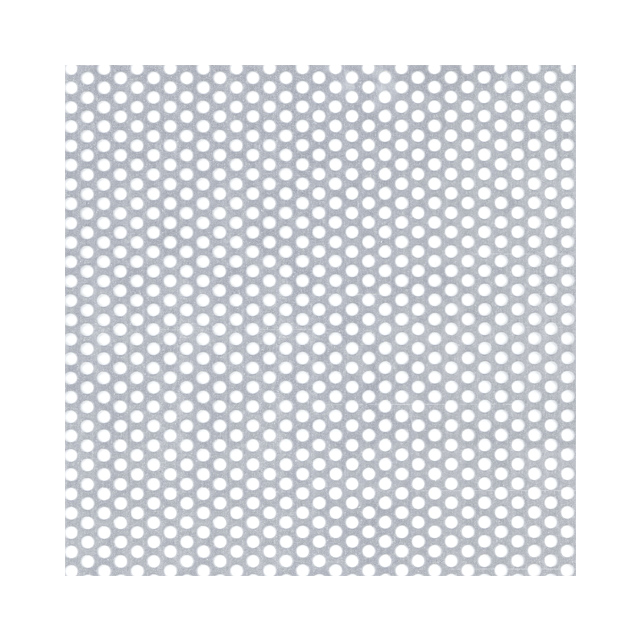Hole: (127, 78, 146, 96), (557, 78, 576, 96), (243, 69, 261, 87), (310, 68, 328, 86), (491, 77, 509, 95), (558, 98, 576, 116), (78, 70, 97, 87), (143, 69, 162, 86), (160, 79, 179, 96), (424, 78, 443, 95), (111, 70, 129, 87), (177, 70, 195, 87), (194, 79, 212, 96), (293, 79, 311, 96), (459, 78, 476, 96), (509, 68, 526, 86), (508, 89, 526, 106), (474, 69, 493, 85), (228, 79, 245, 96), (409, 69, 426, 86), (442, 88, 459, 105), (210, 70, 228, 86), (326, 79, 344, 95), (392, 79, 410, 95), (475, 89, 493, 105), (95, 79, 112, 95), (260, 79, 277, 95), (360, 79, 377, 95), (526, 78, 542, 95), (542, 69, 559, 85), (542, 88, 559, 104), (342, 69, 360, 84), (377, 68, 392, 86), (278, 70, 294, 86), (442, 69, 458, 85)
